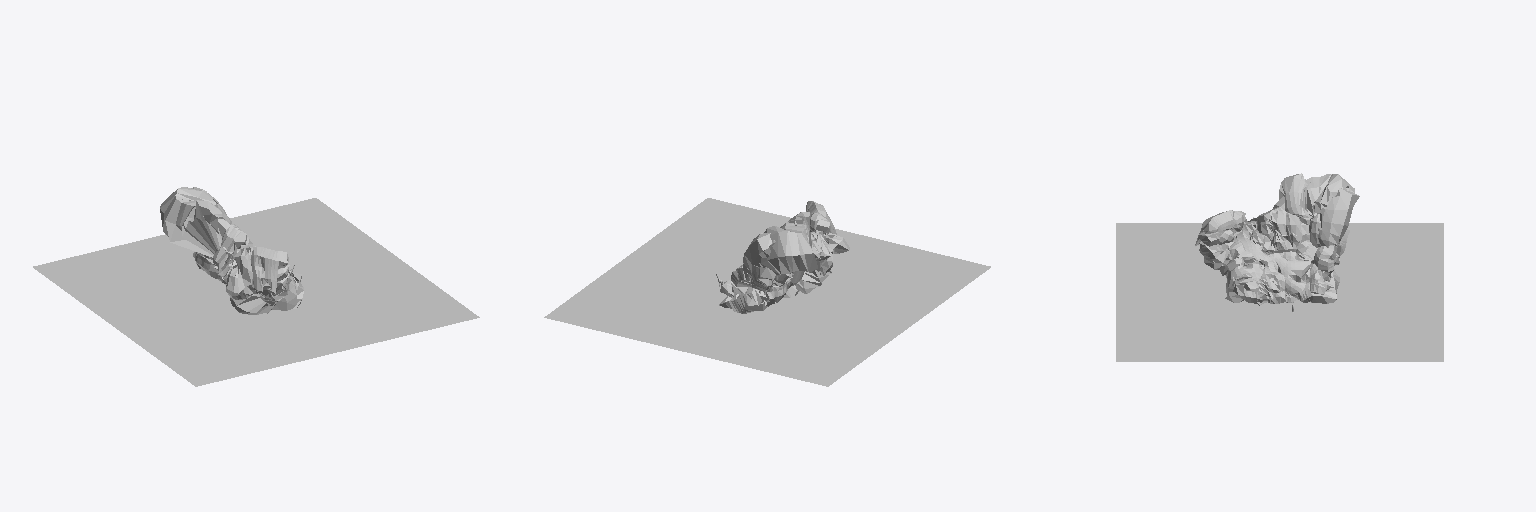
Rendered from giraffe.obj.
3 views of the same model, side by side, from view 1: azimuth 30°, elevation 25°; view 2: azimuth 150°, elevation 25°; view 3: azimuth 270°, elevation 25° (orthographic).
Visible parts, largest first — view 1: Плоскость.001, Плоскость.002; view 2: Плоскость.001, Плоскость.002; view 3: Плоскость.001, Плоскость.002.
Part boxes in pixels (x1,y1,x2,y2): Плоскость.001: (33, 198, 479, 386); Плоскость.002: (160, 187, 303, 314); Плоскость.001: (544, 198, 990, 386); Плоскость.002: (719, 201, 849, 313); Плоскость.001: (1116, 223, 1443, 361); Плоскость.002: (1195, 173, 1359, 305).
Bounding box in the file's own units: 55.15 × 22.15 × 55.15.